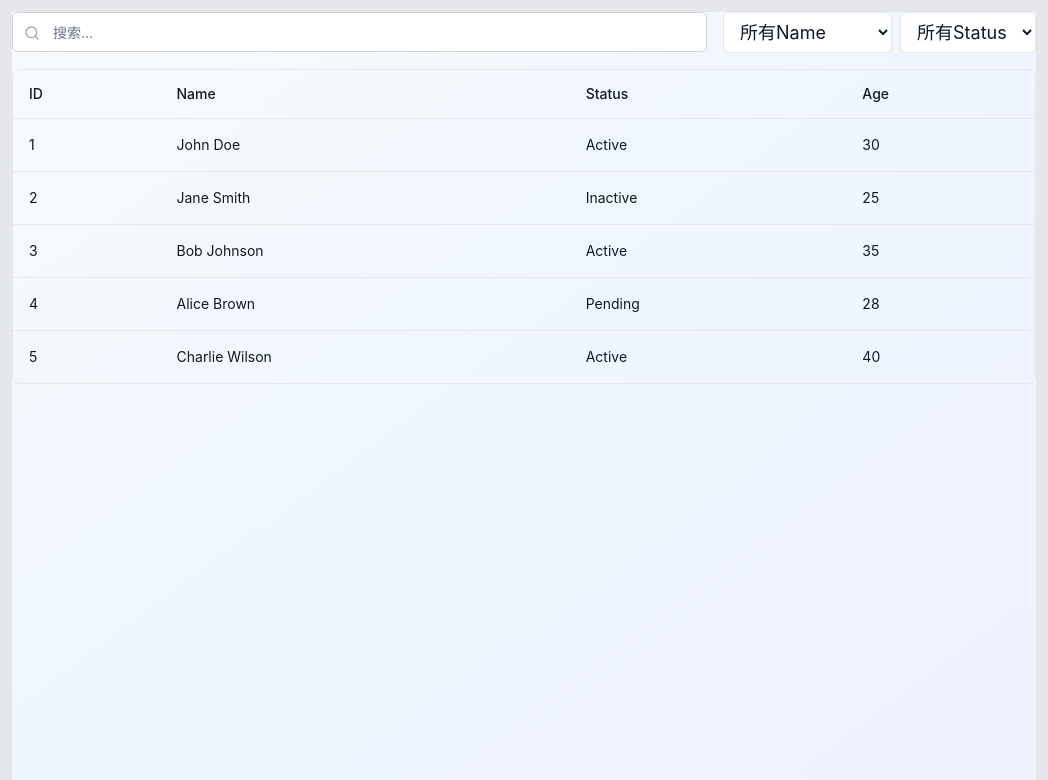
Test: DataTable Component › Sort Functionality › should sort data in ascending order when column header is clicked
This screenshot has width=1048, height=780.
Click the text "Age": x=876, y=93 [862,85,889,102]
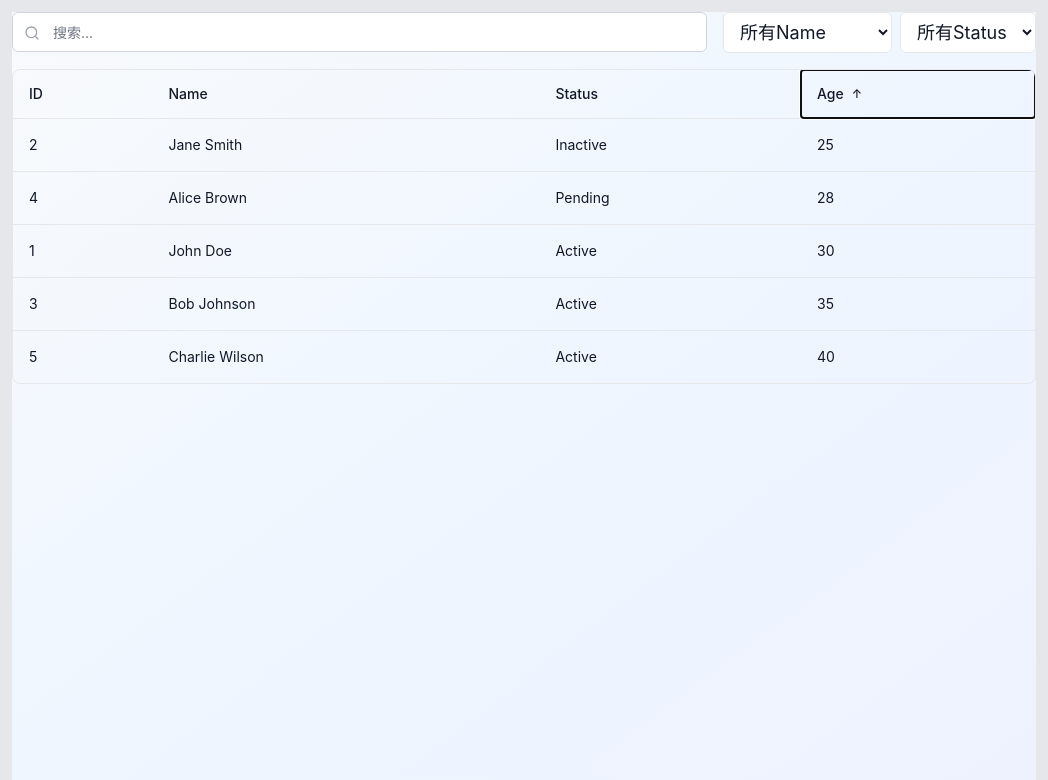
Check: the row "2 Jane Smith Inactive 25" is shown, box [13,118,1035,171]
